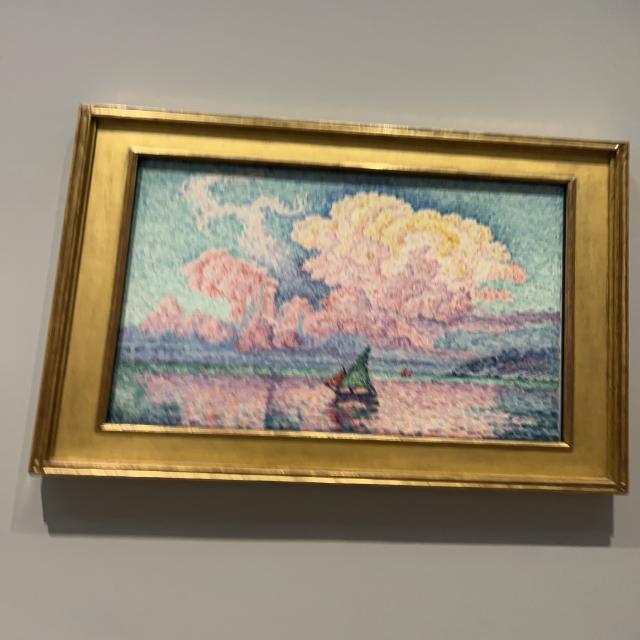sunrise: (115, 172, 560, 439)
